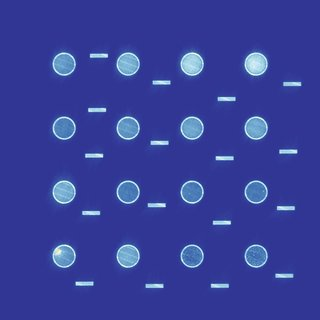overheated: (55, 248, 62, 256)
